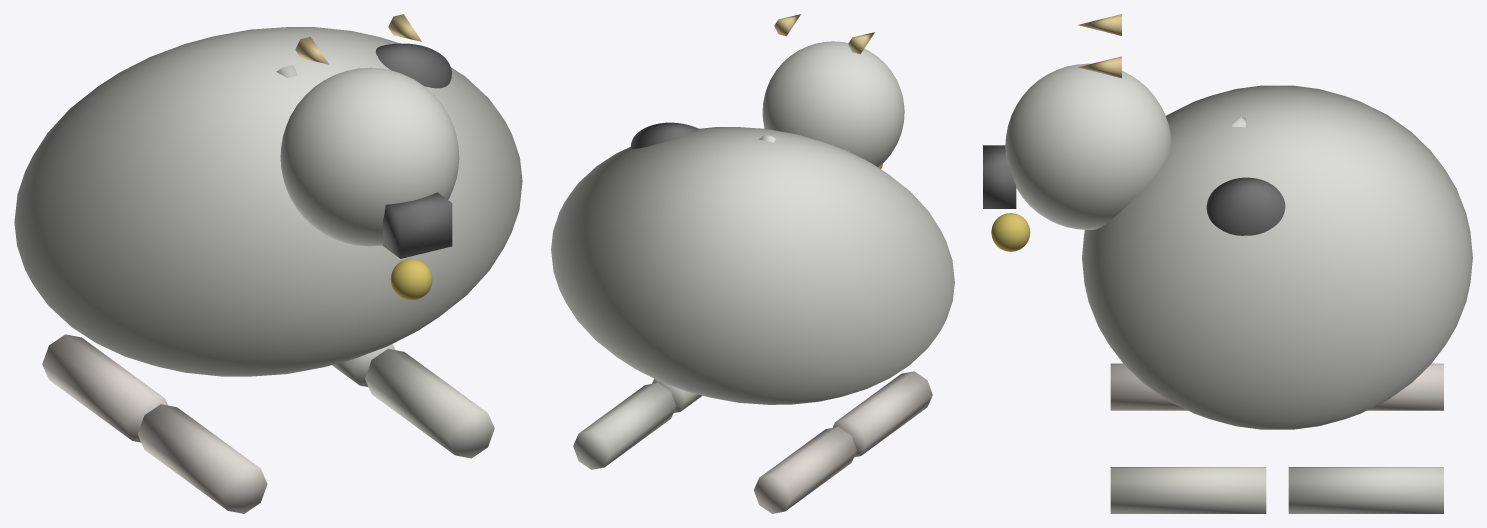
Rendered from animal_cow_holstein.glb.
The picture shows the model from 3 angles, left to right: view 1: azimuth 30°, elevation 25°; view 2: azimuth 150°, elevation 25°; view 3: azimuth 270°, elevation 25°; orthographic projection. The views are drawn at different scales.
Visible parts, largest first — view 1: body, head, leg-1_1, leg1_1, leg-1_-1, snout, patch2, bell, leg1_-1; view 2: body, head, leg1_-1, leg-1_-1, leg-1_1, patch2, leg1_1; view 3: body, head, leg1_1, leg1_-1, patch2, leg-1_1, leg-1_-1, snout, bell.
Boxes of the visible parts, <box> form: body: <box>14,27,522,376</box>; head: <box>280,67,459,246</box>; leg-1_1: <box>137,404,267,513</box>; leg1_1: <box>365,349,494,458</box>; leg-1_-1: <box>42,334,168,442</box>; snout: <box>382,192,452,258</box>; patch2: <box>375,43,451,88</box>; bell: <box>390,258,432,300</box>; leg1_-1: <box>332,344,395,387</box>; body: <box>551,127,954,404</box>; head: <box>762,41,904,167</box>; leg1_-1: <box>573,382,676,469</box>; leg-1_-1: <box>754,426,856,513</box>; leg-1_1: <box>832,371,932,457</box>; patch2: <box>631,122,698,148</box>; leg1_1: <box>652,378,701,412</box>; body: <box>1082,85,1472,429</box>; head: <box>1005,63,1171,229</box>; leg1_1: <box>1110,467,1266,513</box>; leg1_-1: <box>1288,467,1443,513</box>; patch2: <box>1206,177,1285,235</box>; leg-1_1: <box>1110,363,1187,410</box>; leg-1_-1: <box>1367,363,1443,410</box>; snout: <box>983,145,1016,208</box>; bell: <box>991,213,1030,251</box>.
Bounding box in the file's own units: 0.896 × 0.8423 × 0.882.
